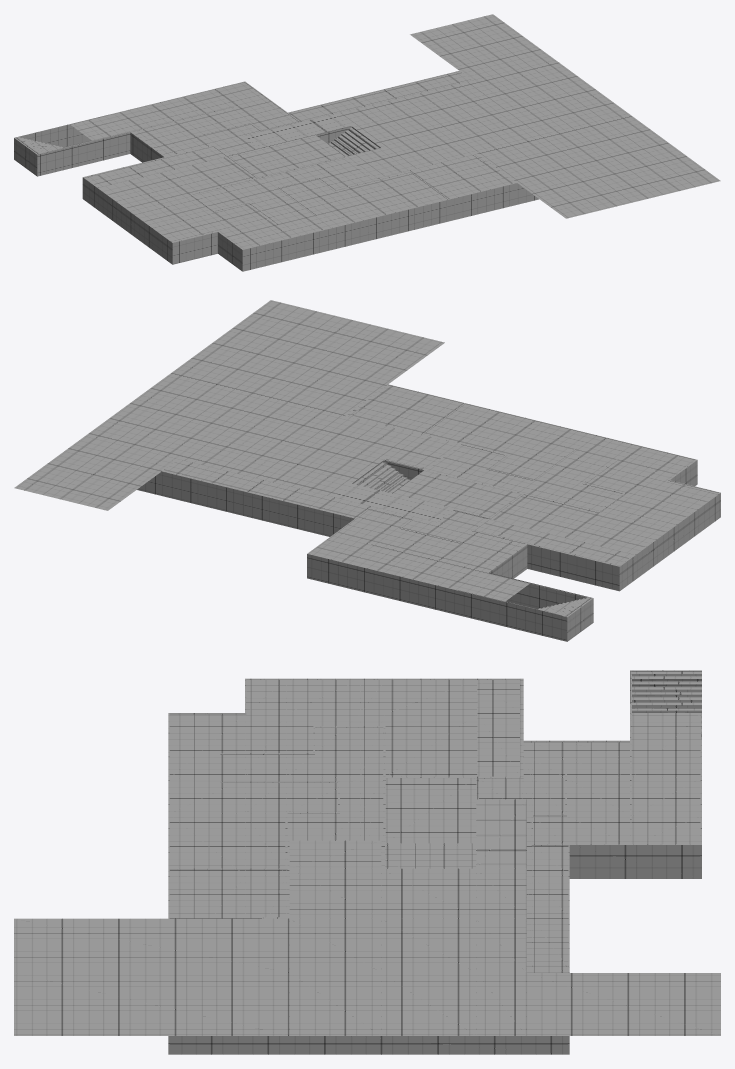
The model's file is lvl.fbx.
3 views of the same model, one above another, from view 1: azimuth 30°, elevation 25°; view 2: azimuth 150°, elevation 25°; view 3: azimuth 270°, elevation 25° (orthographic). The views are drawn at different scales.
Visible parts, largest first — view 1: lvl -1; view 2: lvl -1; view 3: lvl -1.
Part boxes in pixels (x1=…): lvl -1: x1=14, y1=14, x2=720, y2=271; lvl -1: x1=14, y1=300, x2=720, y2=641; lvl -1: x1=14, y1=670, x2=720, y2=1054.
Bounding box in the file's own units: 47.24 × 2.11 × 38.46.
